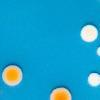orange: (1, 65, 24, 86), (50, 86, 72, 100)
white: (78, 23, 98, 43), (87, 72, 100, 87), (96, 45, 100, 59)
